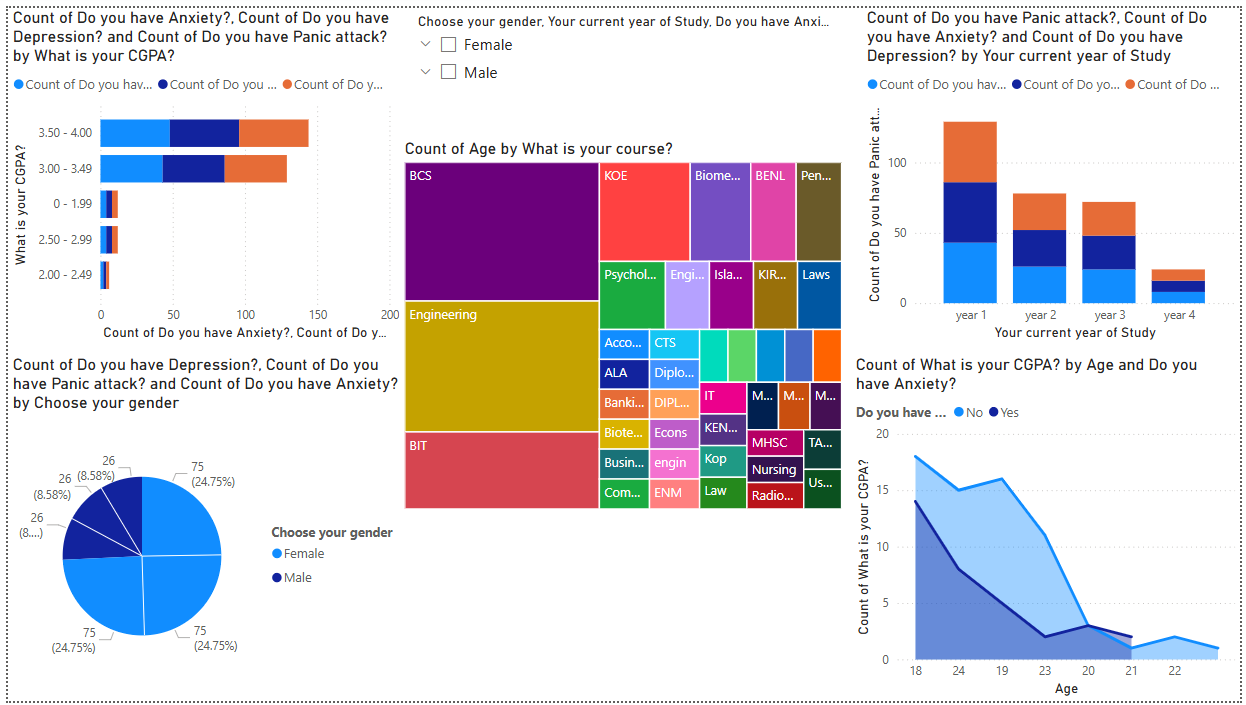

The page's visual inventory and layout, read from the dashboard file:
{"tool":"powerbi","page":{"name":"Page 1","canvas":[1280,720],"ordinal":0},"visuals":[{"type":"barChart","fields":{"Category":["Student Mental health.What is your CGPA?"],"Y":["CountNonNull(Student Mental health.Do you have Anxiety?)","CountNonNull(Student Mental health.Do you have Depression?)","CountNonNull(Student Mental health.Do you have Panic attack?)"]},"box":[0,0,411.4,350],"z":0},{"type":"pieChart","fields":{"Category":["Student Mental health.Choose your gender"],"Y":["CountNonNull(Student Mental health.Do you have Depression?)","CountNonNull(Student Mental health.Do you have Panic attack?)","CountNonNull(Student Mental health.Do you have Anxiety?)"]},"box":[0,360,411.4,360],"z":1000},{"type":"columnChart","fields":{"Category":["Student Mental health.Your current year of Study"],"Y":["CountNonNull(Student Mental health.Do you have Panic attack?)","CountNonNull(Student Mental health.Do you have Anxiety?)","CountNonNull(Student Mental health.Do you have Depression?)"]},"box":[887.1,0,392.9,350],"z":2000},{"type":"areaChart","fields":{"Category":["Student Mental health.Age"],"Y":["CountNonNull(Student Mental health.What is your CGPA?)"],"Series":["Student Mental health.Do you have Anxiety?"]},"box":[875.7,360,404.3,360],"z":3000},{"type":"treemap","fields":{"Group":["Student Mental health.What is your course?"],"Values":["CountNonNull(Student Mental health.Age)"]},"box":[407.1,135.7,464.3,390],"z":4000},{"type":"slicer","fields":{"Values":["Student Mental health.Choose your gender","Student Mental health.Your current year of Study","Student Mental health.Do you have Anxiety?","Student Mental health.Do you have Depression?","Student Mental health.Do you have Panic attack?"]},"box":[412.9,0,464.3,130],"z":5000}]}

Visuals, with their boxes in screenshot pixels (x1, y1, x2, y2), scaled from the page's 1280x720 canvas onto the 1246x705 screenshot:
barChart - Student Mental health.What is your CGPA? x CountNonNull(Student Mental health.Do you have Anxiety?): (0, 0, 400, 343)
pieChart - Student Mental health.Choose your gender x CountNonNull(Student Mental health.Do you have Depression?): (0, 352, 400, 704)
columnChart - Student Mental health.Your current year of Study x CountNonNull(Student Mental health.Do you have Panic attack?): (864, 0, 1245, 343)
areaChart - Student Mental health.Age x CountNonNull(Student Mental health.What is your CGPA?): (852, 352, 1245, 704)
treemap - Student Mental health.What is your course? x CountNonNull(Student Mental health.Age): (396, 133, 848, 515)
slicer - Student Mental health.Choose your gender x Student Mental health.Your current year of Study: (402, 0, 854, 127)
